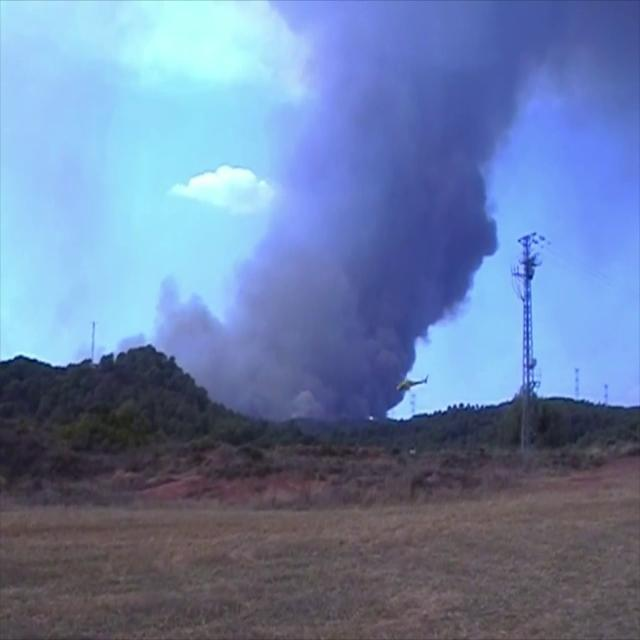Smoke: (156, 1, 624, 427)
